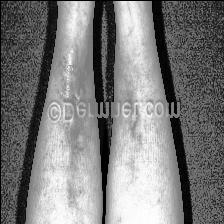Unclassified: (57, 56, 88, 96), (64, 124, 88, 164)
